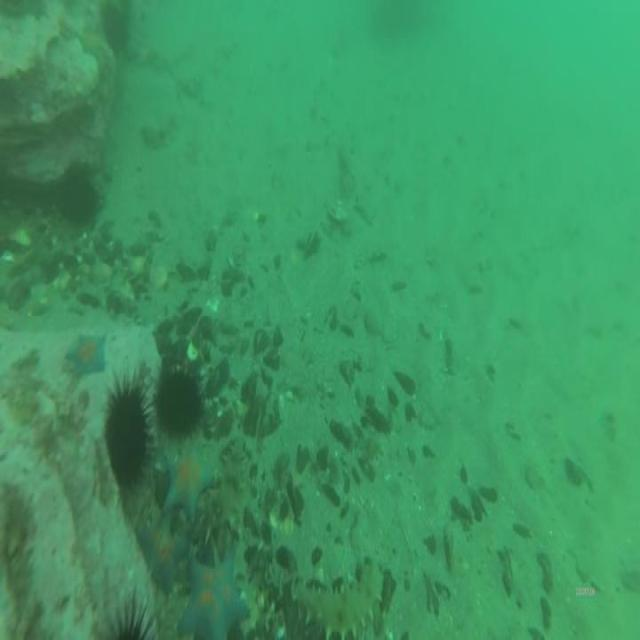echinus: (108, 386, 146, 476), (154, 373, 201, 436), (57, 171, 95, 224), (103, 5, 129, 52)
holothurian: (288, 565, 385, 640), (190, 442, 247, 536)
starfish: (177, 547, 248, 637), (138, 517, 184, 594), (166, 451, 214, 518), (62, 334, 107, 379)
